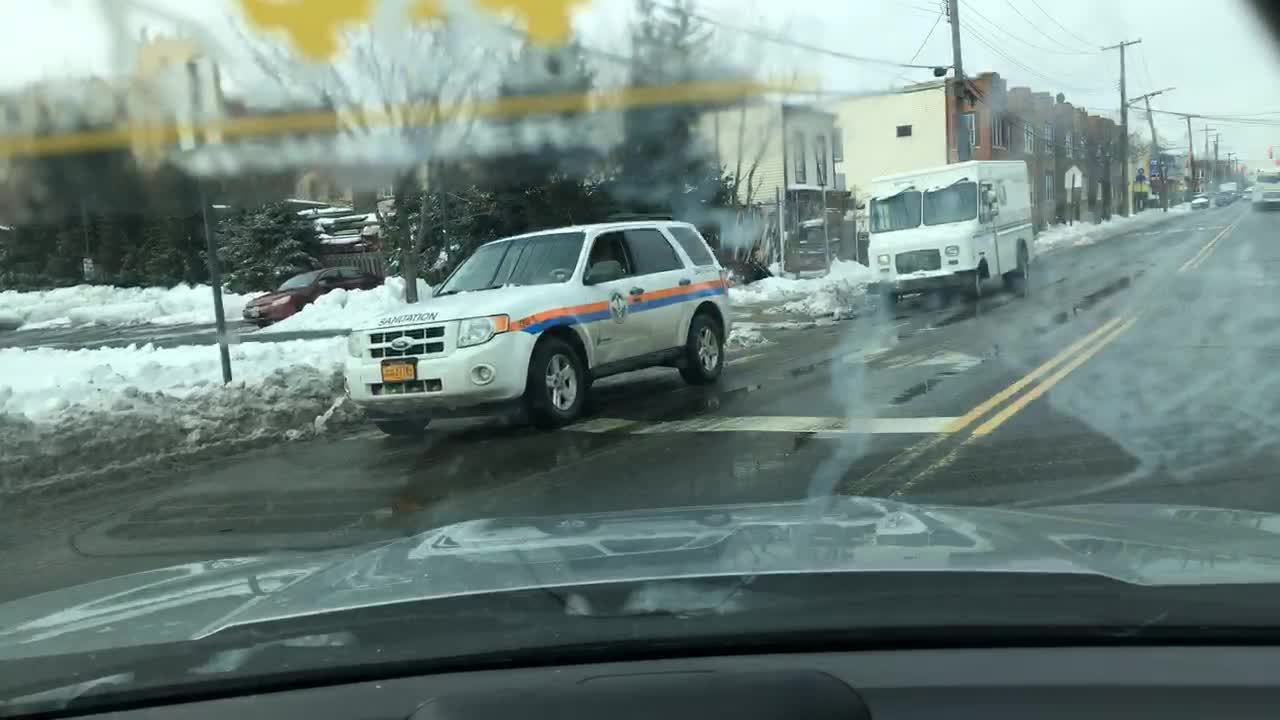bus: (1253, 170, 1279, 205)
car: (342, 221, 731, 436), (239, 266, 383, 325), (1215, 191, 1232, 204), (1191, 196, 1207, 209), (1242, 188, 1250, 198)
traffic sign: (167, 54, 225, 156), (1064, 163, 1082, 188)
truck: (859, 158, 1036, 305), (1221, 182, 1240, 198)
